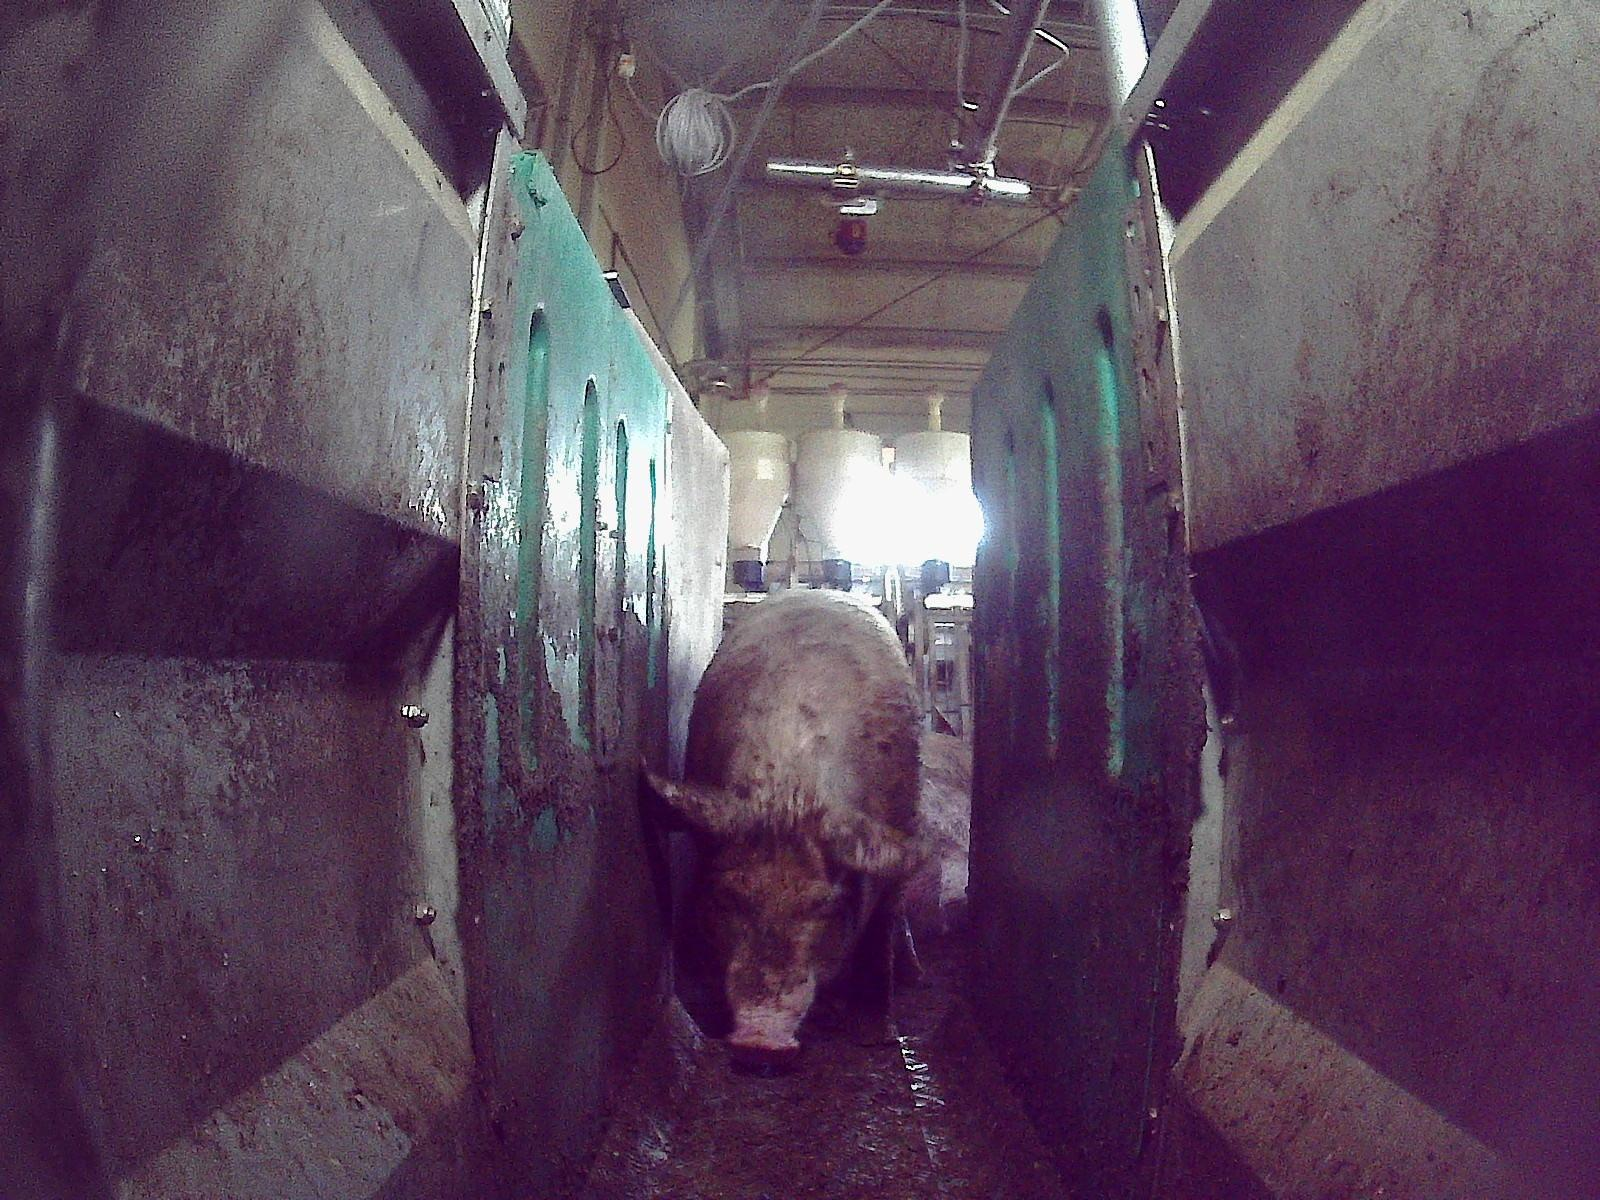Face: (697, 787, 865, 1062)
